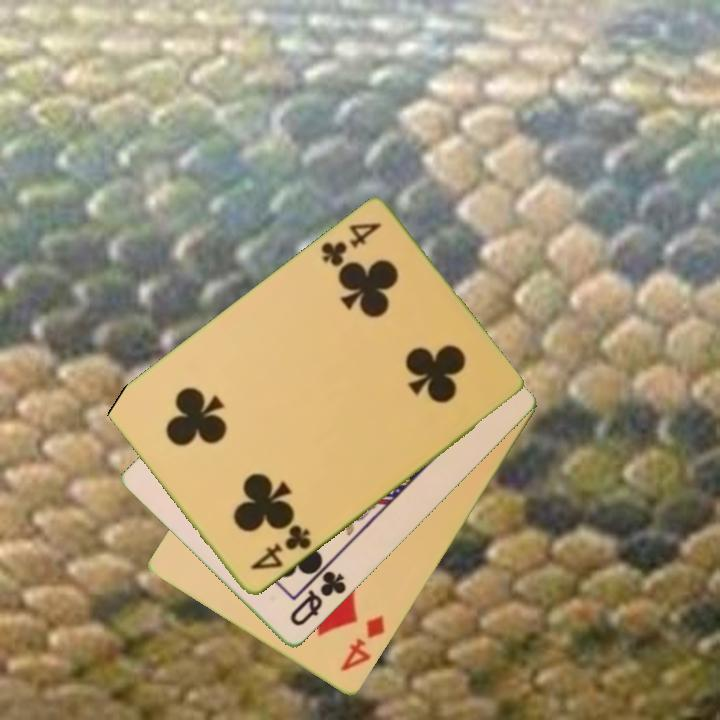4c: (247, 521, 315, 574), (317, 219, 385, 271)
4d: (337, 611, 388, 675)
Qc: (286, 567, 350, 630)
